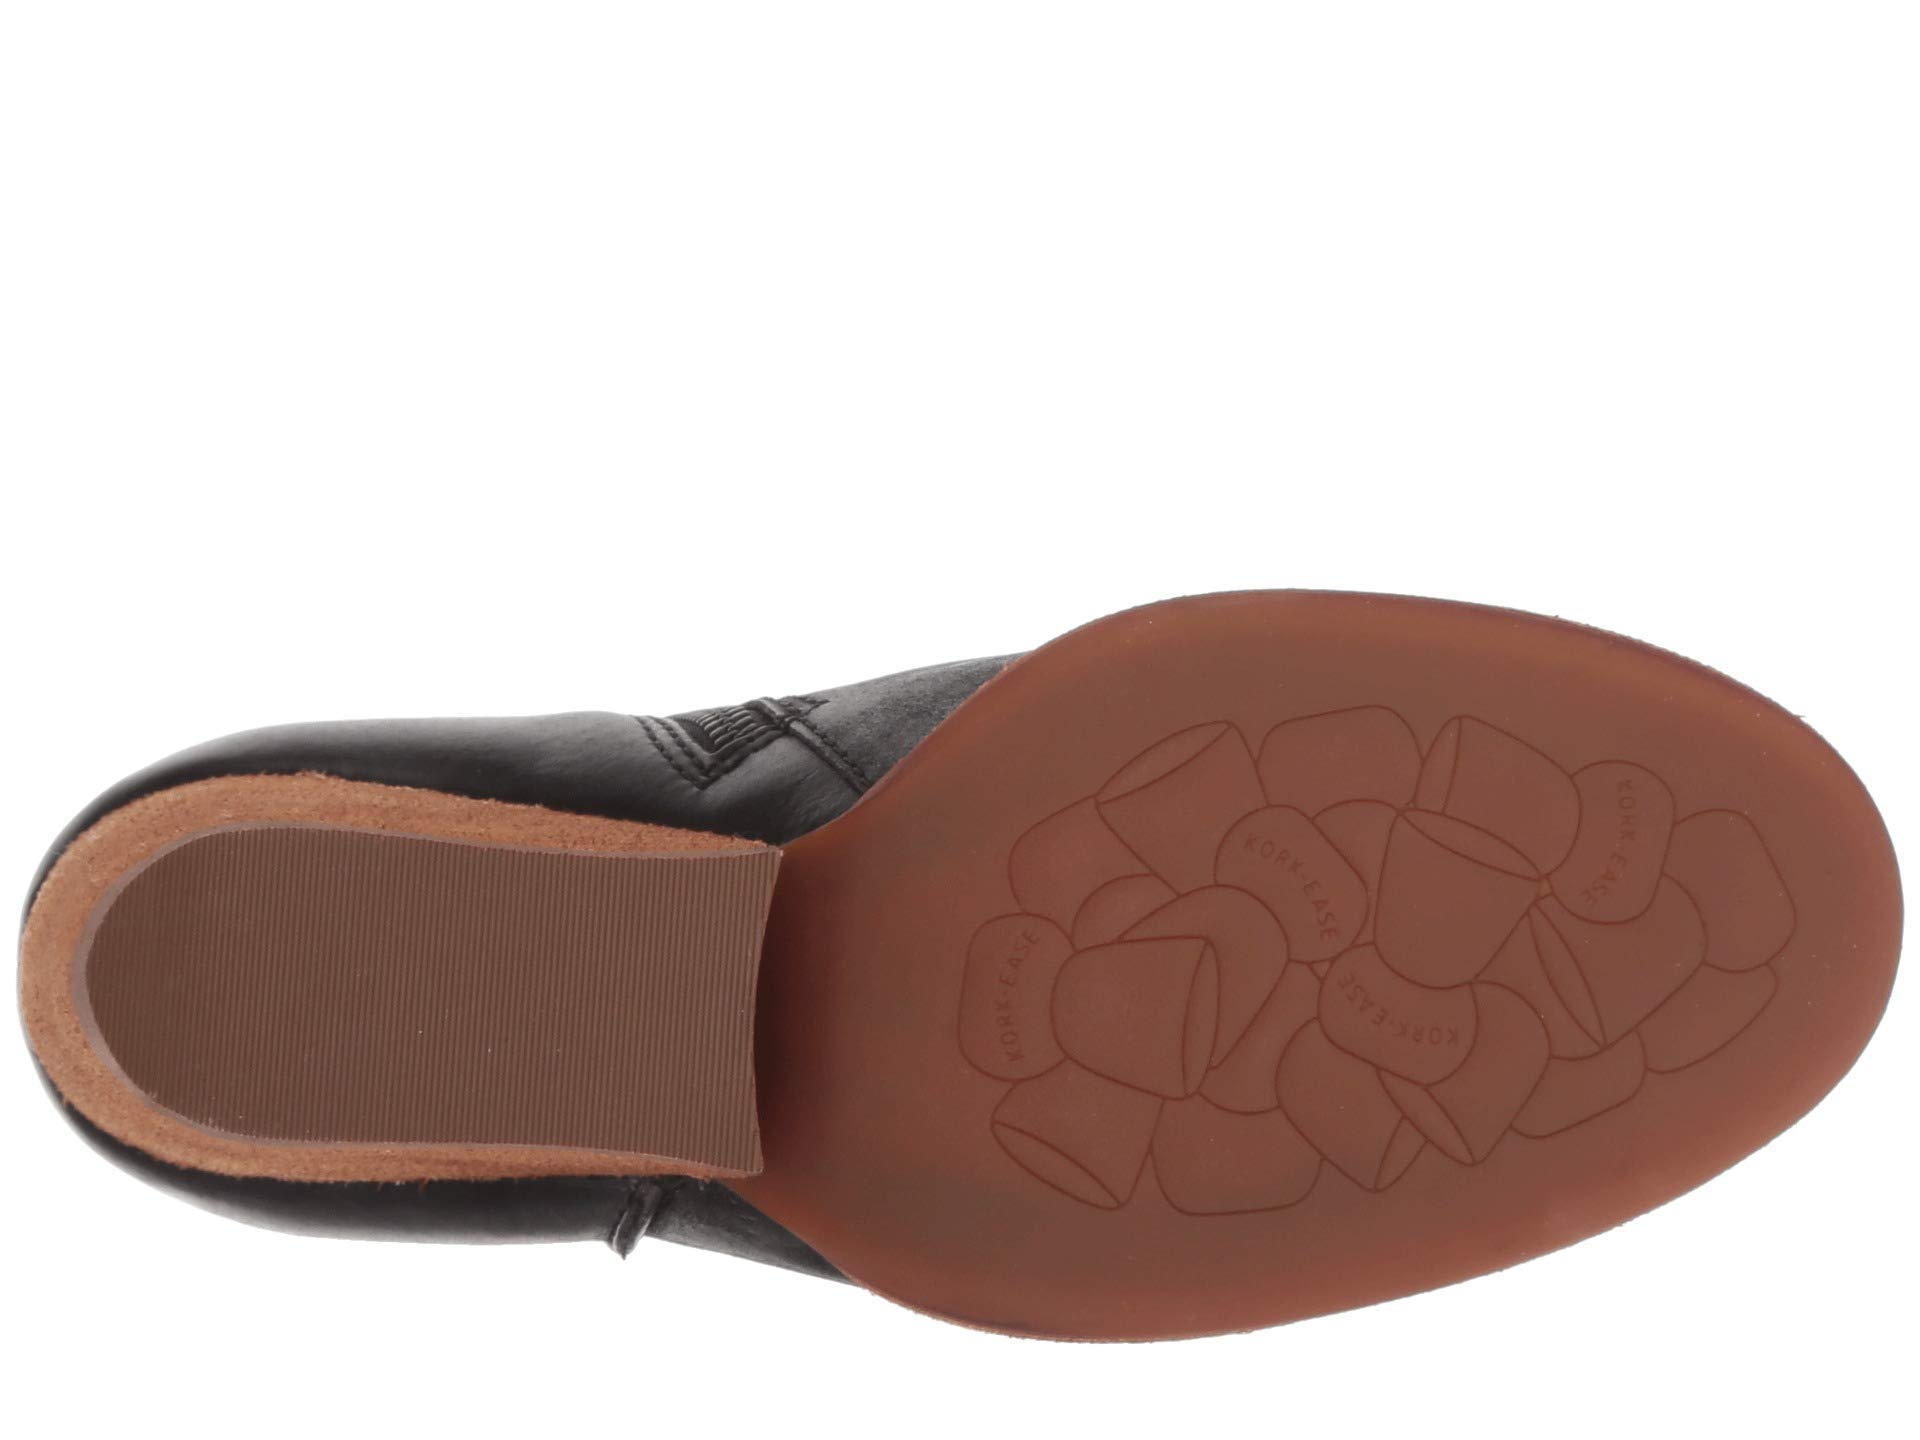line: (192, 856, 727, 1145)
quad: (1079, 679, 1742, 1128)
text: (1079, 679, 1742, 1128)
